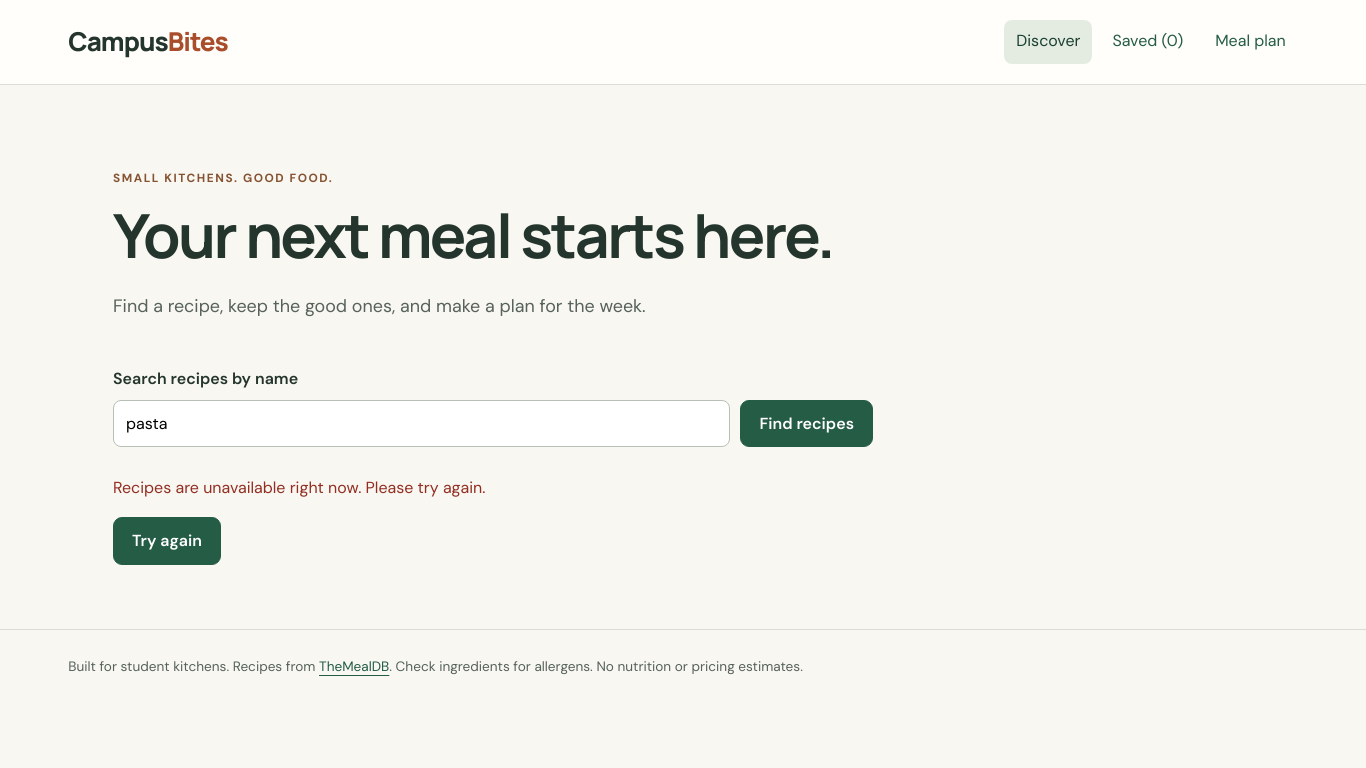
Test case: HTTP failure and malformed payload are surfaced
Expected: the message shows "unavailable", [113, 477, 486, 498]
Click the button "Try again" at (167, 541), box [113, 517, 221, 565]
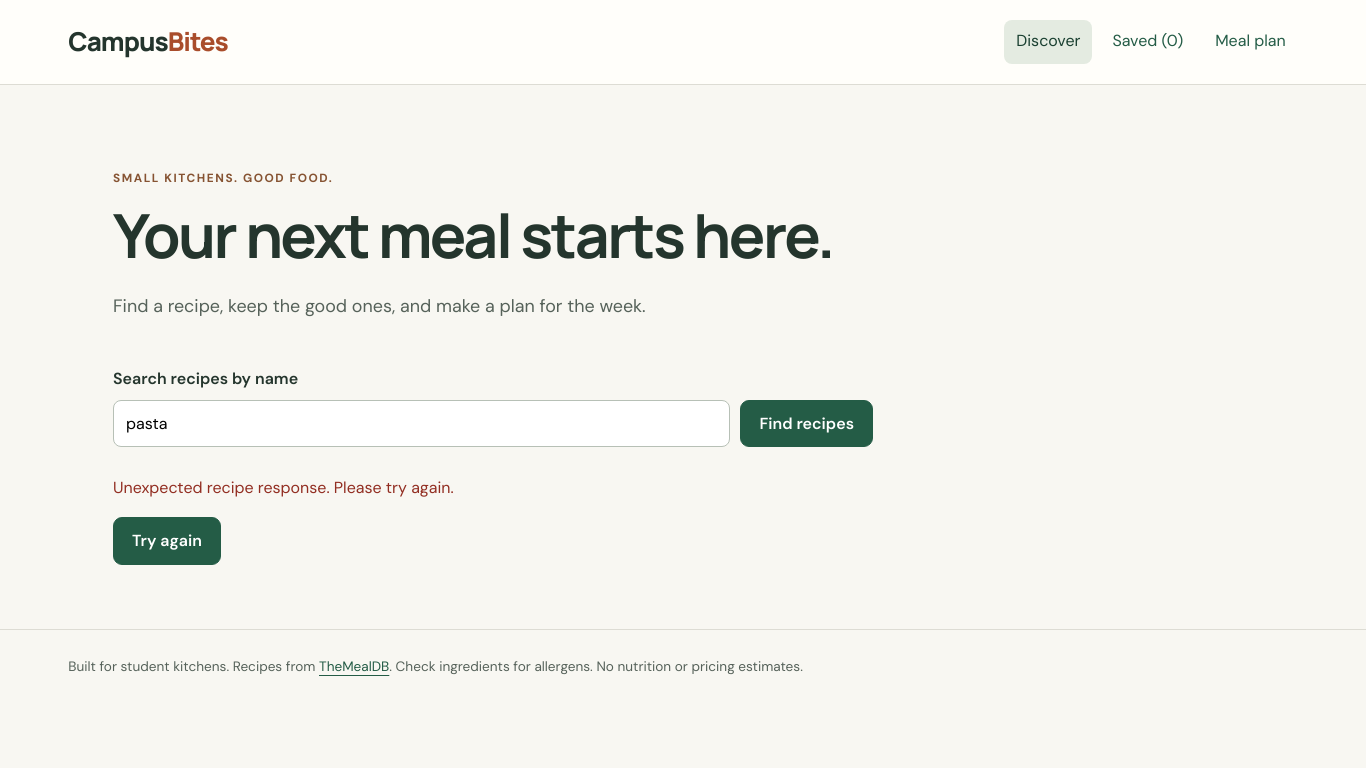
Expected: the message shows "Unexpected", [113, 477, 454, 498]
